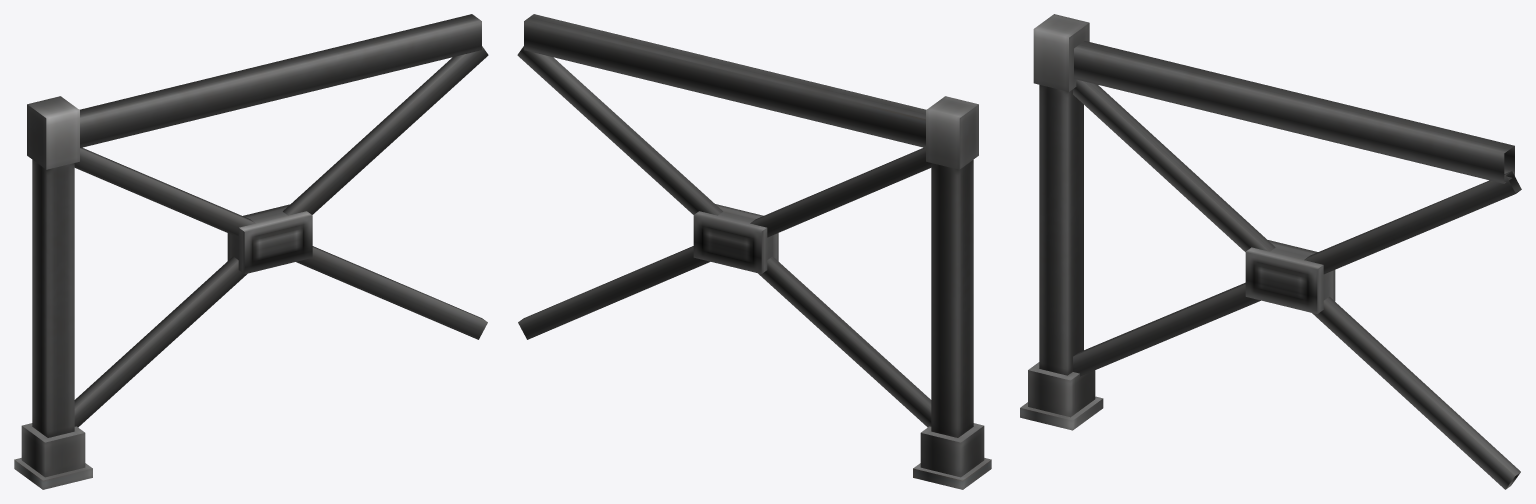
3 views of the same model, side by side, from view 1: azimuth 30°, elevation 25°; view 2: azimuth 150°, elevation 25°; view 3: azimuth 330°, elevation 25° (orthographic). The views are drawn at different scales.
Parts seen in each view (by area): view 1: Grid_Segment; view 2: Grid_Segment; view 3: Grid_Segment.
Part boxes in pixels (left/top/right/bottom): Grid_Segment: left=14, top=14, right=488, bottom=489; Grid_Segment: left=517, top=14, right=991, bottom=489; Grid_Segment: left=1020, top=14, right=1521, bottom=489.
Bounding box in the file's own units: 650 × 497 × 70.88.
